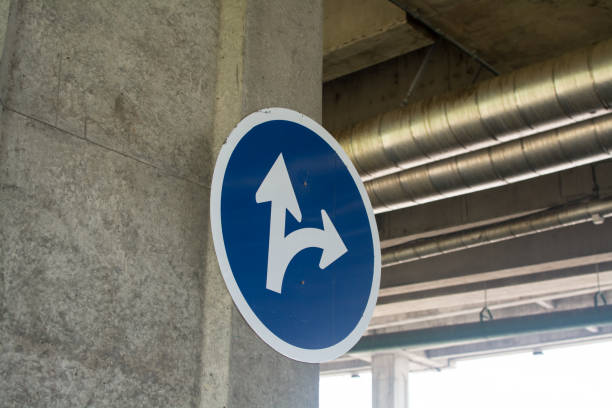ileri_veya_saga: (208, 103, 383, 365)
